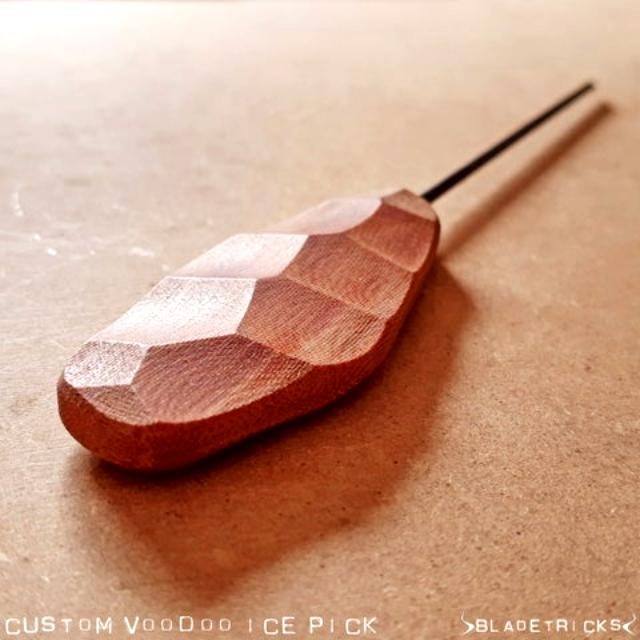ice pick: (56, 79, 596, 475)
